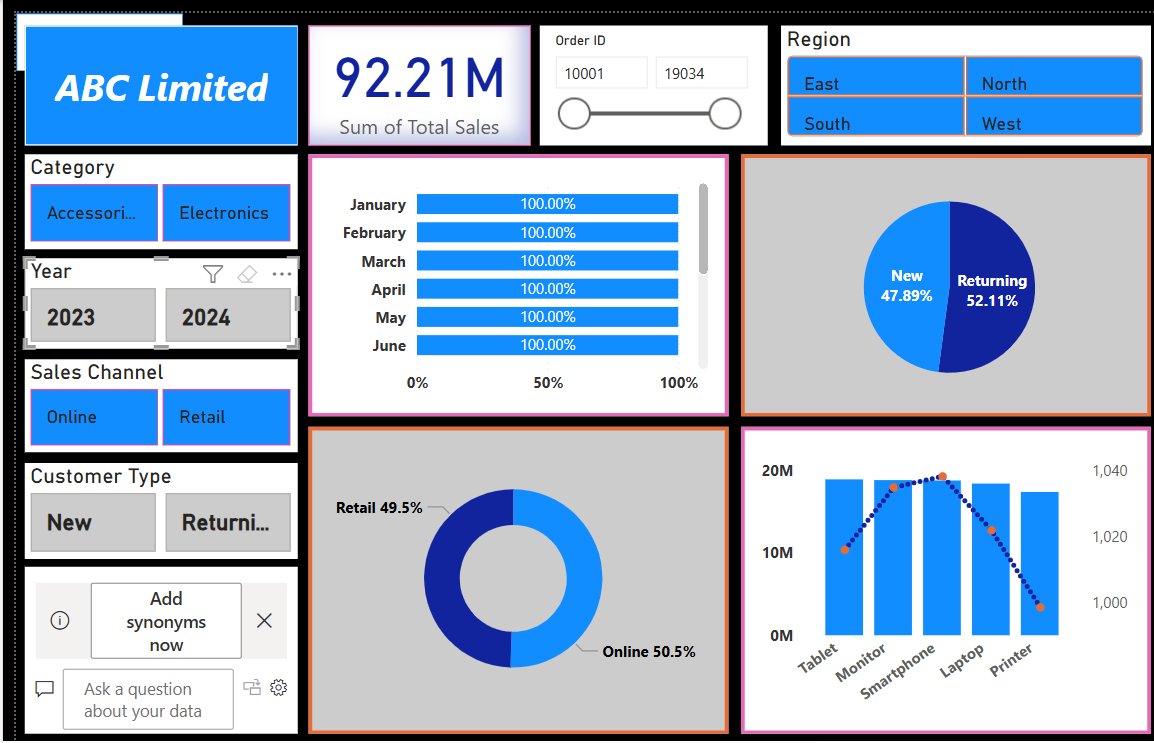

Layout of this report page (visuals, bound fields, positions):
{"tool":"powerbi","page":{"name":"Page 1","canvas":[1280,720],"ordinal":0},"visuals":[{"type":"shape","box":[0,0,134.5,46.7],"z":0},{"type":"shape","box":[7,10,219,96],"z":1000},{"type":"slicer","fields":{"Values":["Sheet1.Order ID"]},"box":[419,10,183,96],"z":2000},{"type":"card","fields":{"Values":["Sum(Sheet1.Total Sales)"]},"box":[234,10,178,96],"z":3000},{"type":"advancedSlicerVisual","fields":{"Values":["Sheet1.Region"]},"box":[612,10,296,96],"z":4000},{"type":"advancedSlicerVisual","fields":{"Values":["Sheet1.Category"]},"box":[7,113,219,76],"z":5000},{"type":"advancedSlicerVisual","fields":{"Values":["Sheet1.Month.Variation.Date Hierarchy.Year"]},"box":[7,196,219,73],"z":6000},{"type":"advancedSlicerVisual","fields":{"Values":["Sheet1.Sales Channel"]},"box":[7,277,219,75],"z":7000},{"type":"advancedSlicerVisual","fields":{"Values":["Sheet1.Customer Type"]},"box":[7,360,219,77],"z":8000},{"type":"qnaVisual","box":[7,443,219,134],"z":9000},{"type":"shape","box":[234,113,336,210],"z":10000},{"type":"shape","box":[234,331,336,246],"z":11000},{"type":"shape","box":[580,113,328,210],"z":12000},{"type":"shape","box":[580,331,328,246],"z":13000},{"type":"hundredPercentStackedBarChart","fields":{"Category":["Sheet1.Month.Variation.Date Hierarchy.Month"],"Y":["Sum(Sheet1.Total Sales)"]},"box":[244,123,315,191],"z":14000},{"type":"lineClusteredColumnComboChart","fields":{"Category":["Sheet1.Product"],"Y":["Sum(Sheet1.Total Sales)"],"Y2":["Avg(Sheet1.Unit Price)"]},"box":[591,352,306,217],"z":15000},{"type":"pieChart","fields":{"Category":["Sheet1.Customer Type"],"Y":["Sum(Sheet1.Total Sales)"]},"box":[597,123,300,193],"z":16000},{"type":"donutChart","fields":{"Category":["Sheet1.Sales Channel"],"Y":["Sum(Sheet1.Total Sales)"]},"box":[244,352,308,201],"z":17000}]}

Visuals, with their boxes on the page's 1280x720 design canvas (x1, y1, x2, y2). These are canvas units, not pixel positions in the 1154x743 screenshot, which may show the page scaled, cropped or inside an application window:
shape: 0/0/134/47
shape: 7/10/226/106
slicer - Sheet1.Order ID: 419/10/602/106
card - Sum(Sheet1.Total Sales): 234/10/412/106
advancedSlicerVisual - Sheet1.Region: 612/10/908/106
advancedSlicerVisual - Sheet1.Category: 7/113/226/189
advancedSlicerVisual - Sheet1.Month.Variation.Date Hierarchy.Year: 7/196/226/269
advancedSlicerVisual - Sheet1.Sales Channel: 7/277/226/352
advancedSlicerVisual - Sheet1.Customer Type: 7/360/226/437
qnaVisual: 7/443/226/577
shape: 234/113/570/323
shape: 234/331/570/577
shape: 580/113/908/323
shape: 580/331/908/577
hundredPercentStackedBarChart - Sheet1.Month.Variation.Date Hierarchy.Month x Sum(Sheet1.Total Sales): 244/123/559/314
lineClusteredColumnComboChart - Sheet1.Product x Sum(Sheet1.Total Sales): 591/352/897/569
pieChart - Sheet1.Customer Type x Sum(Sheet1.Total Sales): 597/123/897/316
donutChart - Sheet1.Sales Channel x Sum(Sheet1.Total Sales): 244/352/552/553
